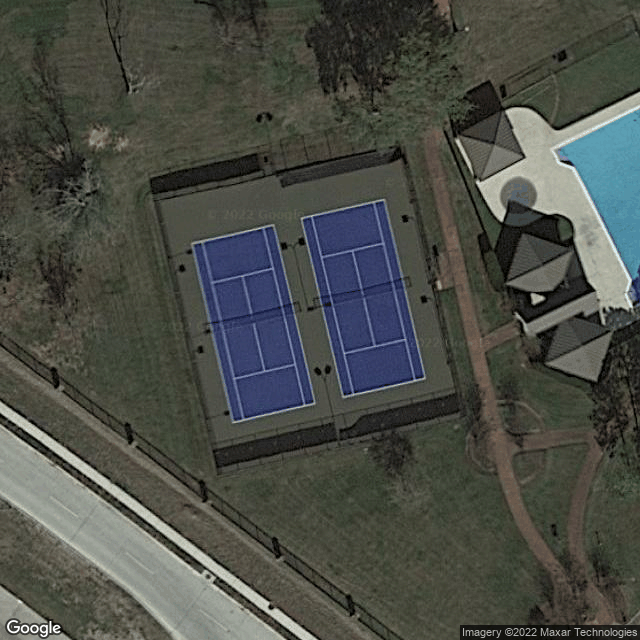Court: (188, 223, 317, 423), (298, 198, 427, 398)
